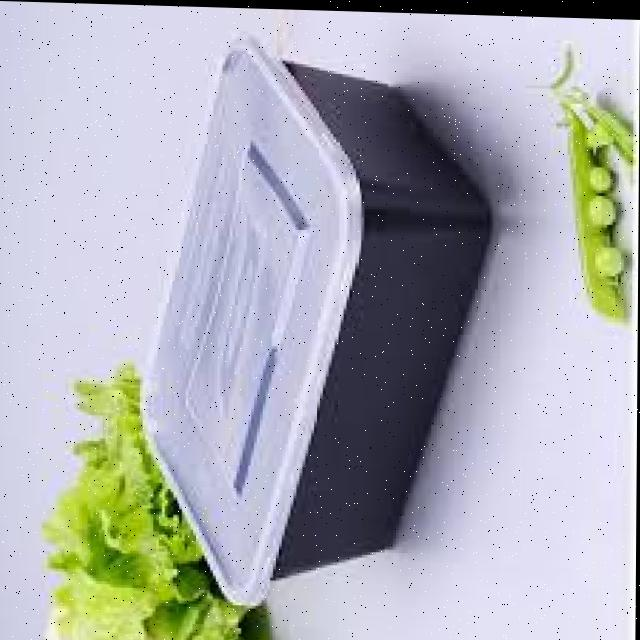disposable: (103, 23, 492, 602)
